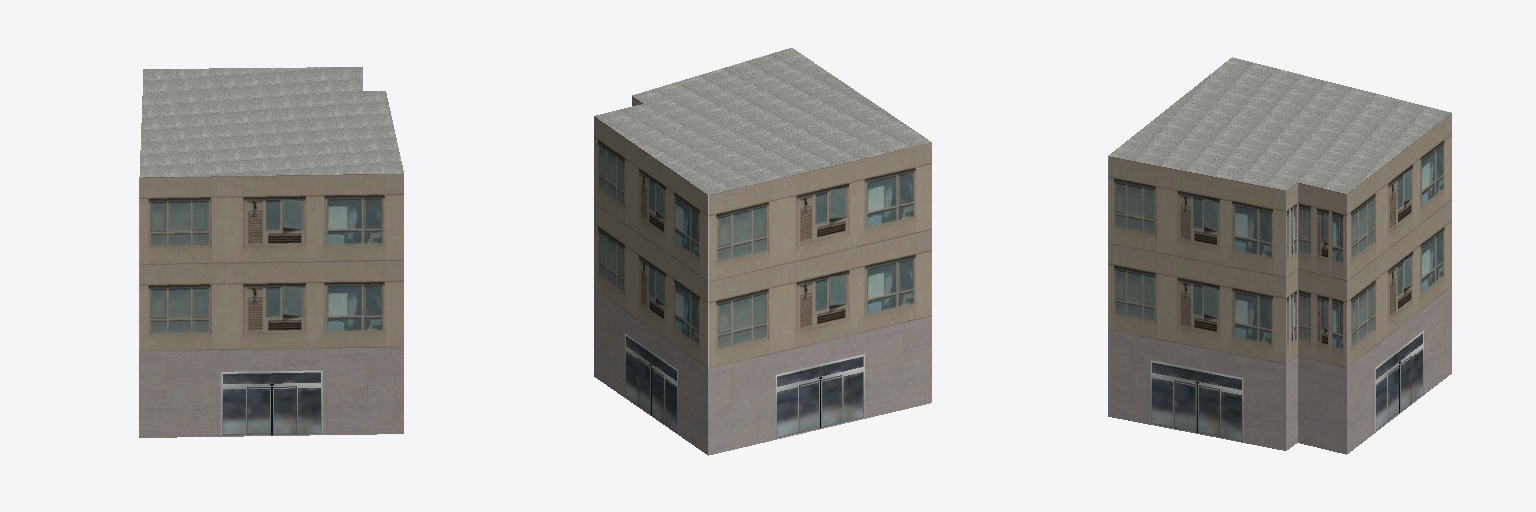
The picture shows the model from 3 angles: view 1: azimuth 30°, elevation 25°; view 2: azimuth 150°, elevation 25°; view 3: azimuth 270°, elevation 25°; orthographic projection.
Visible parts, largest first — view 1: BuildingMaster_[number redacted]_0, BuildingMaster_[number redacted]_1; view 2: BuildingMaster_[number redacted]_0, BuildingMaster_[number redacted]_1; view 3: BuildingMaster_[number redacted]_0, BuildingMaster_[number redacted]_1.
Boxes of the visible parts, <box> form: BuildingMaster_[number redacted]_0: <box>139,174,403,437</box>; BuildingMaster_[number redacted]_1: <box>139,67,403,177</box>; BuildingMaster_[number redacted]_0: <box>594,96,931,455</box>; BuildingMaster_[number redacted]_1: <box>595,48,931,194</box>; BuildingMaster_[number redacted]_0: <box>1108,113,1451,454</box>; BuildingMaster_[number redacted]_1: <box>1109,57,1450,193</box>.
Size of the model in its own units: 11.85 by 10.5 by 12.58.
Materials: 2 (2 with a texture image).